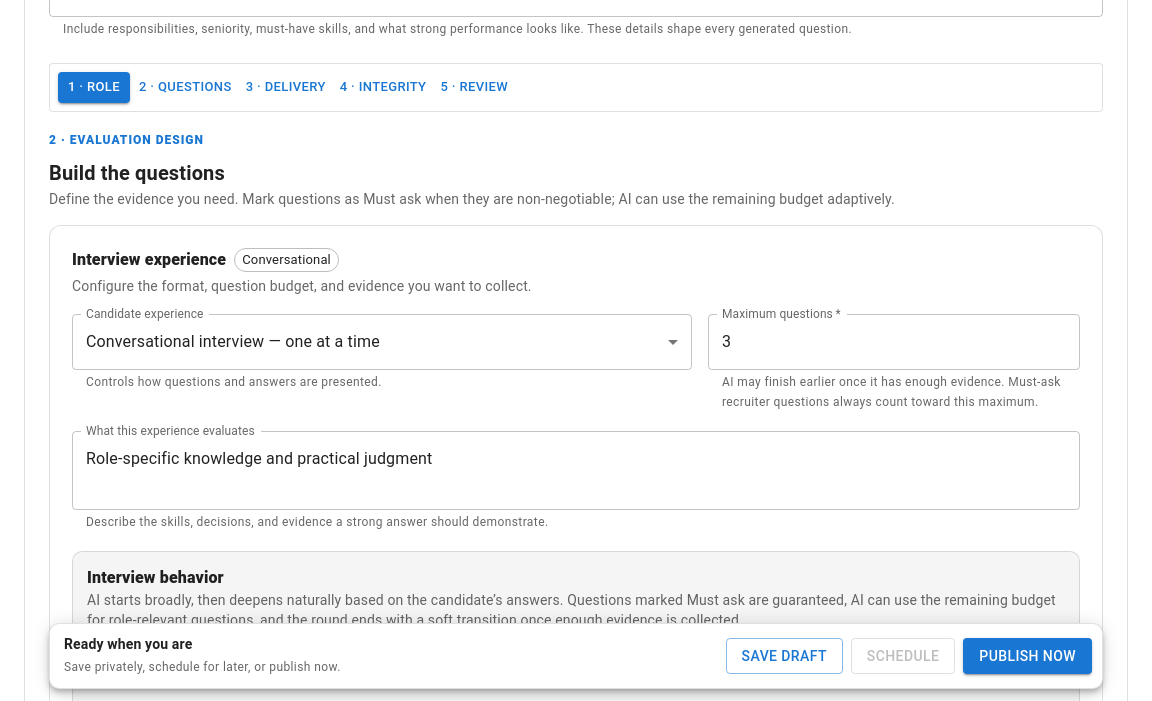
assessment workspace hierarchy › defaults system-design rounds to one clearly labelled question
This screenshot has width=1152, height=701.
(page scrolled)
Expected: the number field labelled "Maximum questions *" holds "3", left=708, top=314, right=1080, bottom=370
Press the mouse on the dropdown named "Candidate experience" at (233, 342), box left=86, top=332, right=380, bottom=352
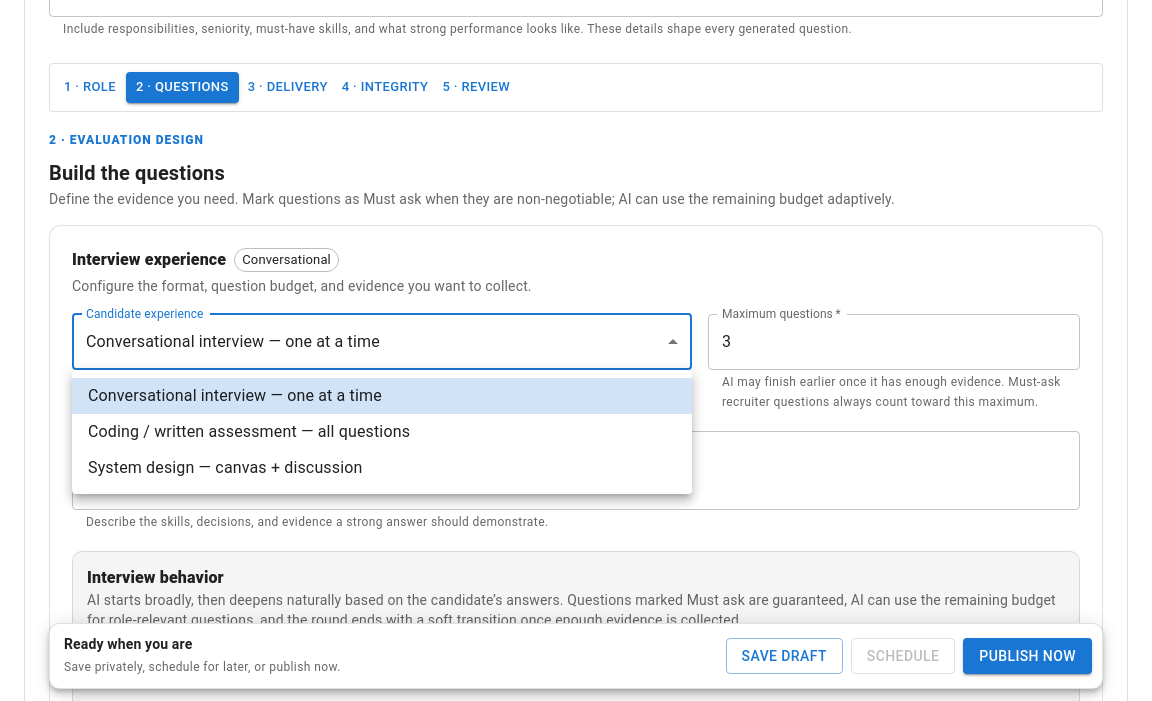
Click the option "System design — canvas + discussion" at (225, 468), box left=88, top=458, right=362, bottom=477
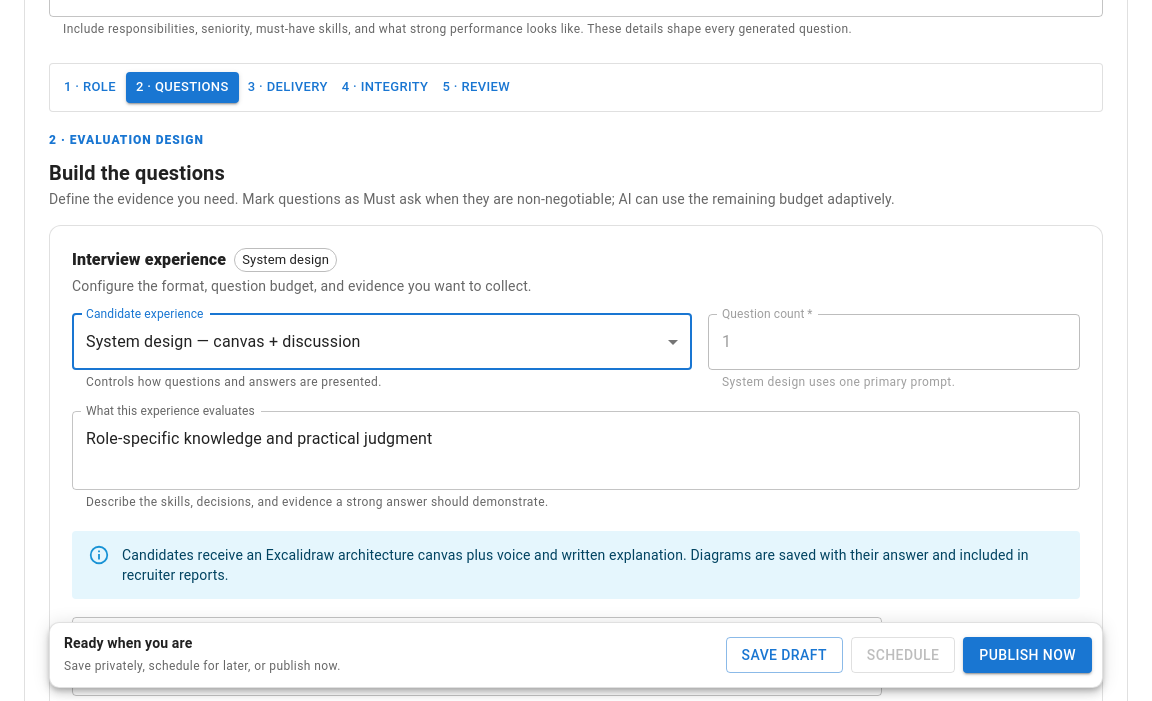
Now the number field labelled "Question count *" holds "1", box left=708, top=314, right=1080, bottom=370
Now the text "Excalidraw architecture canvas" is shown, box left=122, top=547, right=1029, bottom=583
